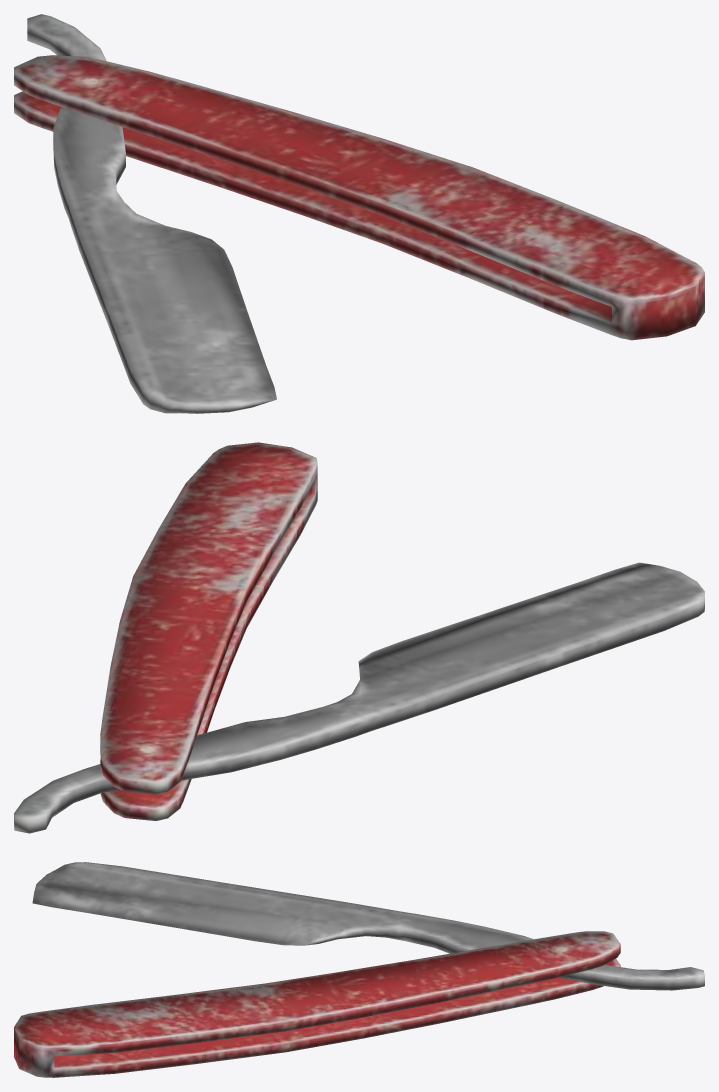
File: razor.glb
3 renders of one model, top to bottom at view 1: azimuth 30°, elevation 25°; view 2: azimuth 150°, elevation 25°; view 3: azimuth 270°, elevation 25°, orthographic. The views are drawn at different scales.
Visible parts, largest first — view 1: ruchka_low, blade_low; view 2: ruchka_low, blade_low; view 3: ruchka_low, blade_low.
Boxes of the visible parts, x1,y1,x2,y2 form: ruchka_low: (14, 55, 704, 340); blade_low: (27, 14, 276, 413); ruchka_low: (100, 442, 317, 820); blade_low: (14, 562, 704, 833); ruchka_low: (14, 931, 620, 1077); blade_low: (32, 862, 704, 990).
Bounding box in the file's own units: 10.99 × 0.7903 × 16.42.
Materials: 1 (1 with a texture image).
